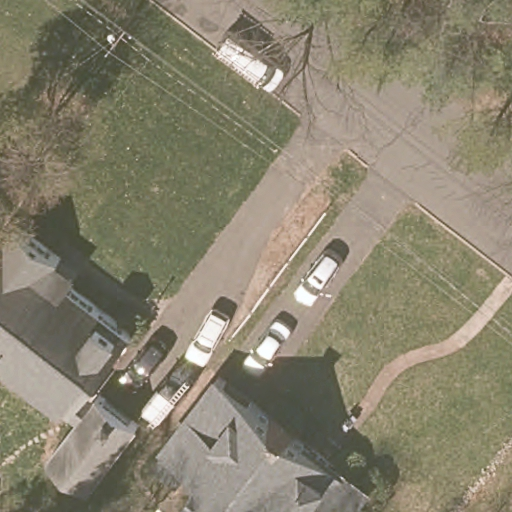DT: (103, 28, 133, 59)
